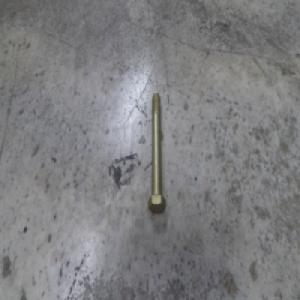Bolt: (145, 92, 165, 214)
